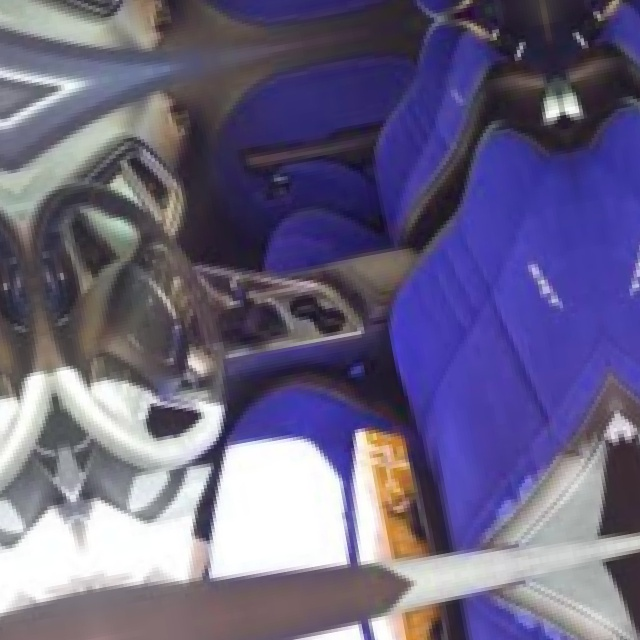ISA: (378, 468, 409, 513)
